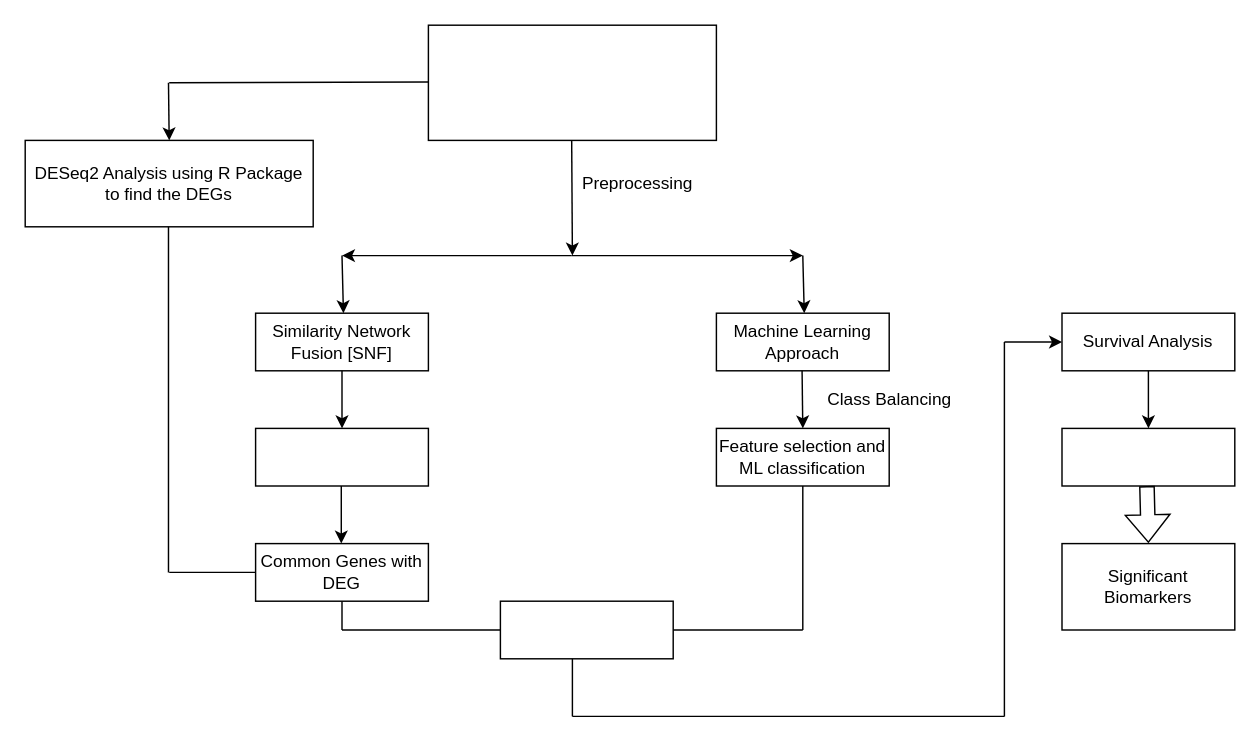
Image size: 1260x743. Some labels were removed from this diagram. Here are the shapes that lost their labels. From the top down, the centre of each, then its label:
point 571,82: TCGA PRAD mRNA Seq + DNA Methylation + miRNA Data
point 341,456: Spectral Clustering
point 1148,456: Pathway Analysis
point 586,629: Common Features
